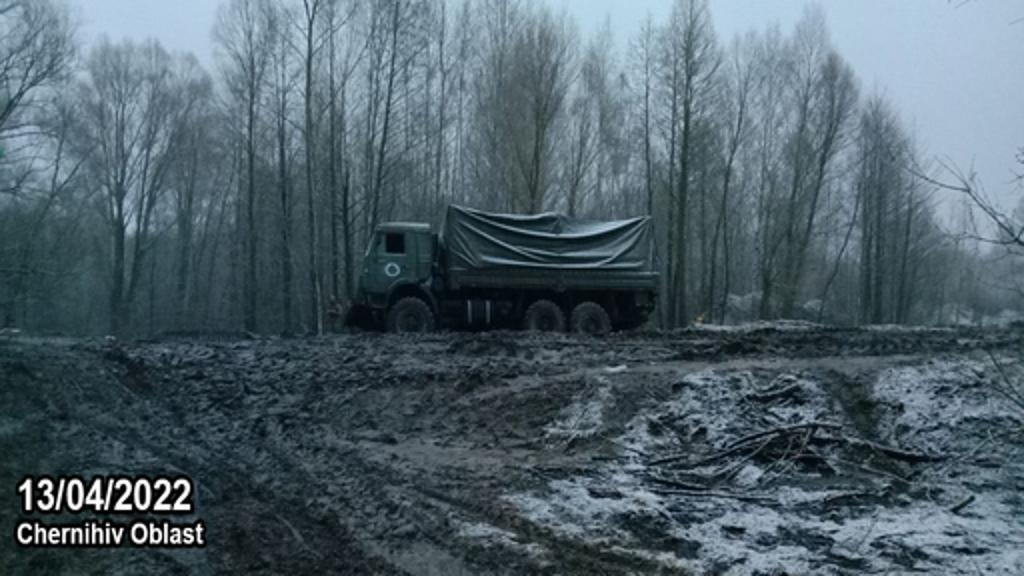TRUCK: (334, 184, 660, 342)
